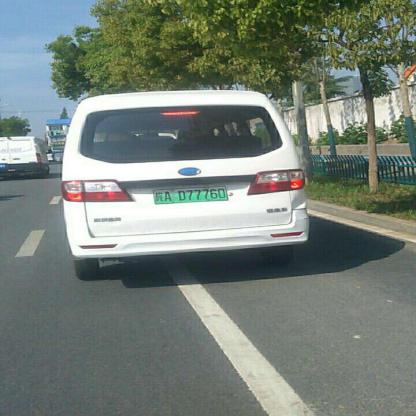lp: (153, 186, 227, 202)
